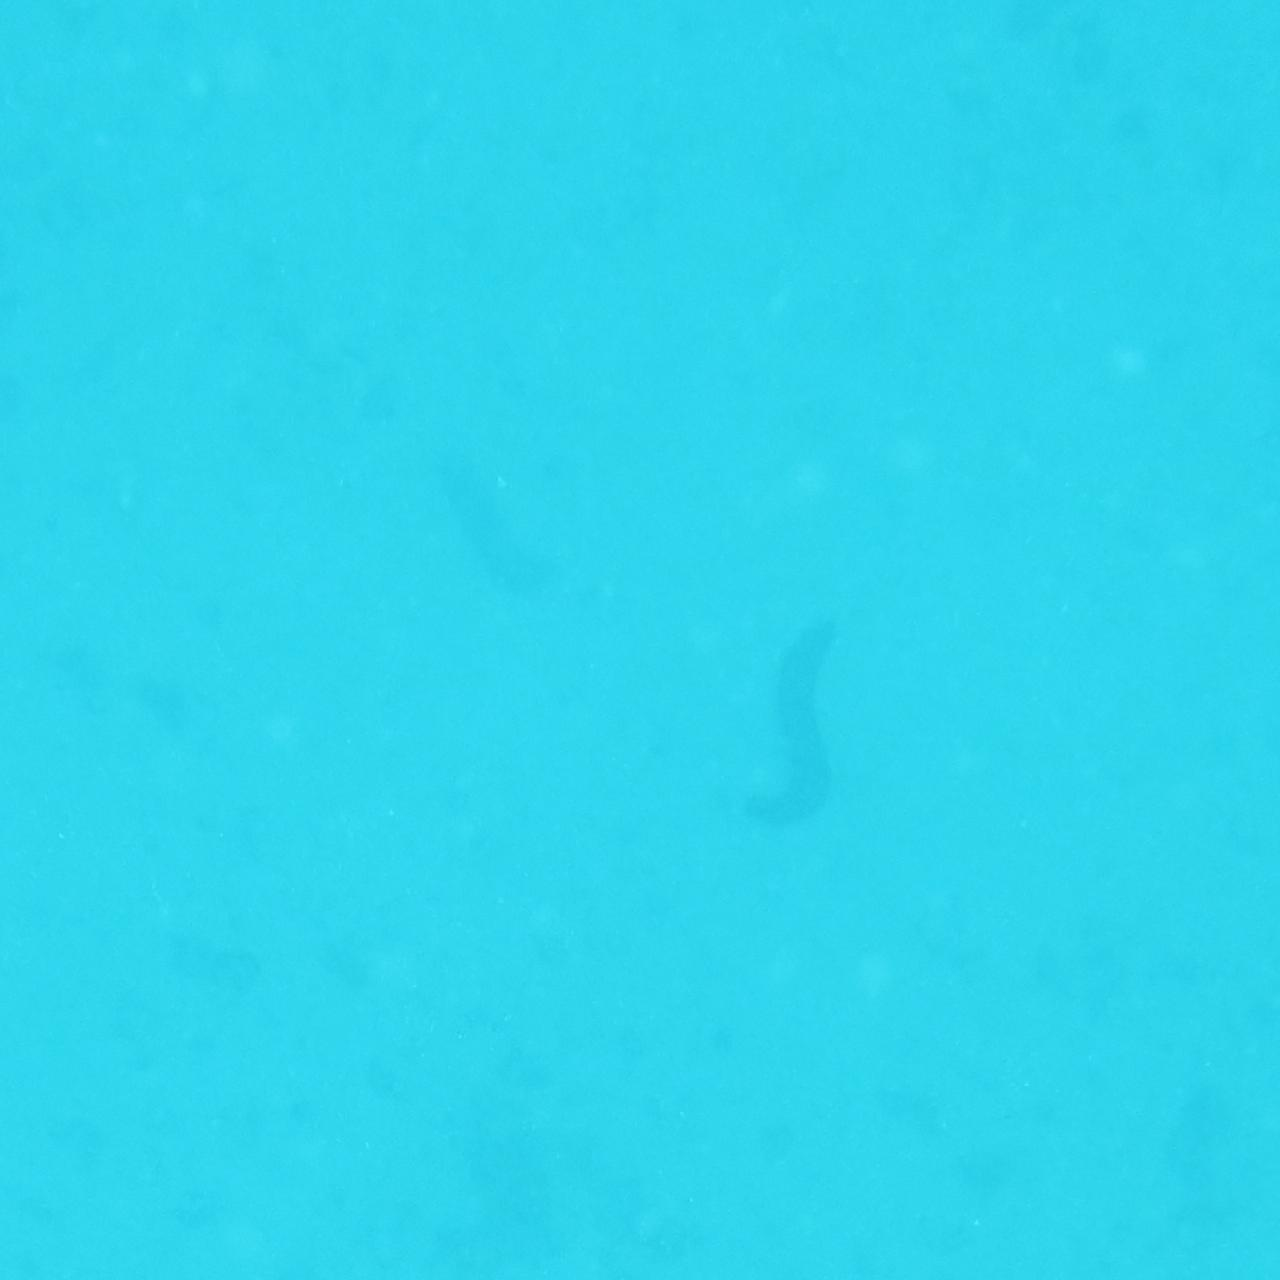Holothuria tubulosa: (715, 629, 870, 852), (407, 452, 572, 628)
